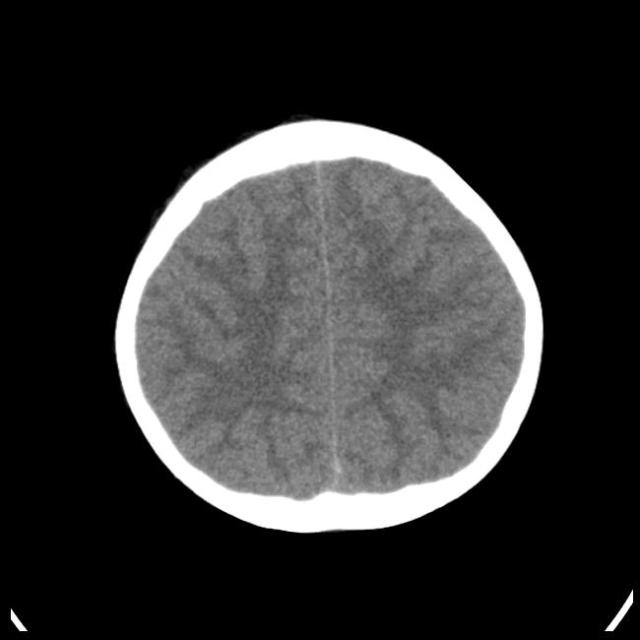lesion: (112, 113, 548, 535)
